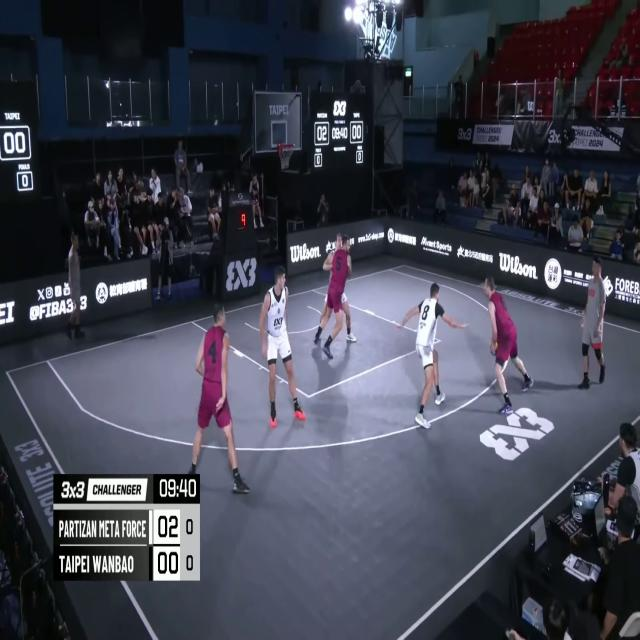ball: (489, 339, 500, 356)
hoop: (276, 140, 294, 170)
player: (188, 302, 252, 492), (406, 282, 468, 431), (262, 265, 308, 428), (483, 274, 535, 416), (313, 239, 352, 362), (317, 235, 356, 354)
